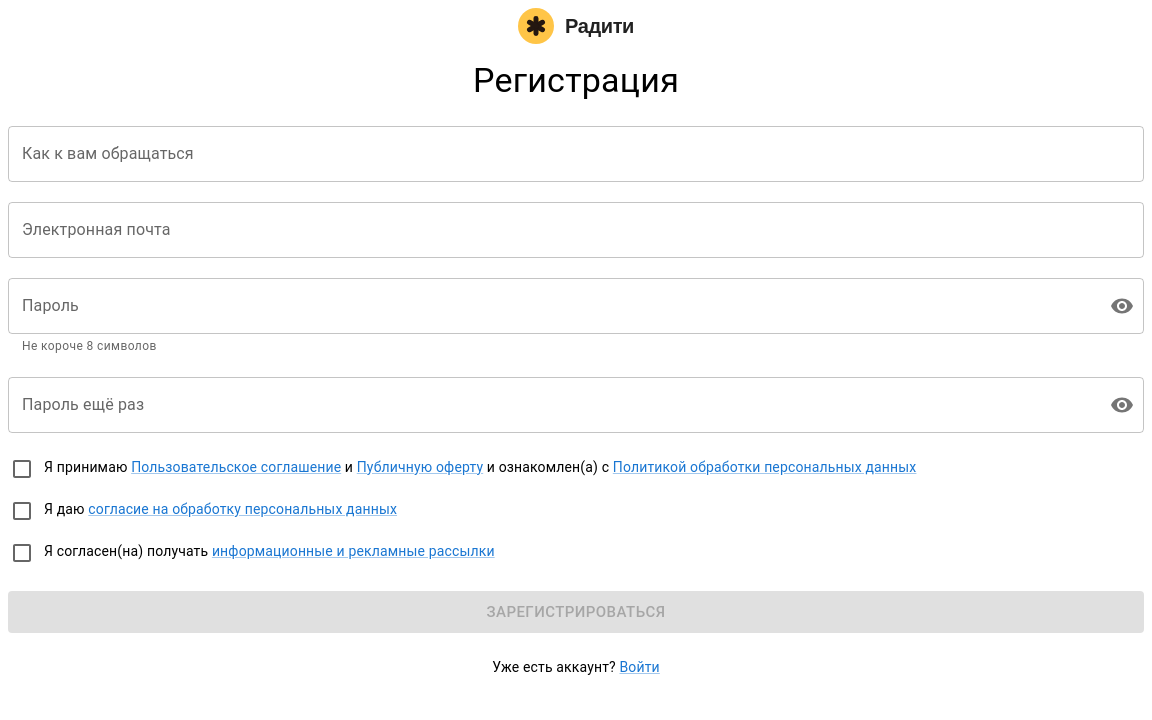
Scenario: RegisterForm › cannot submit with the personal data consent only
This screenshot has width=1152, height=720.
Step 1. Type "Анна" into the field labelled "Как к вам обращаться" → x=576, y=154, box x1=8 y1=126 x2=1144 y2=182
Step 2. Type " anna@example.ru " into the field labelled "Электронная почта" → x=576, y=230, box x1=8 y1=202 x2=1144 y2=258
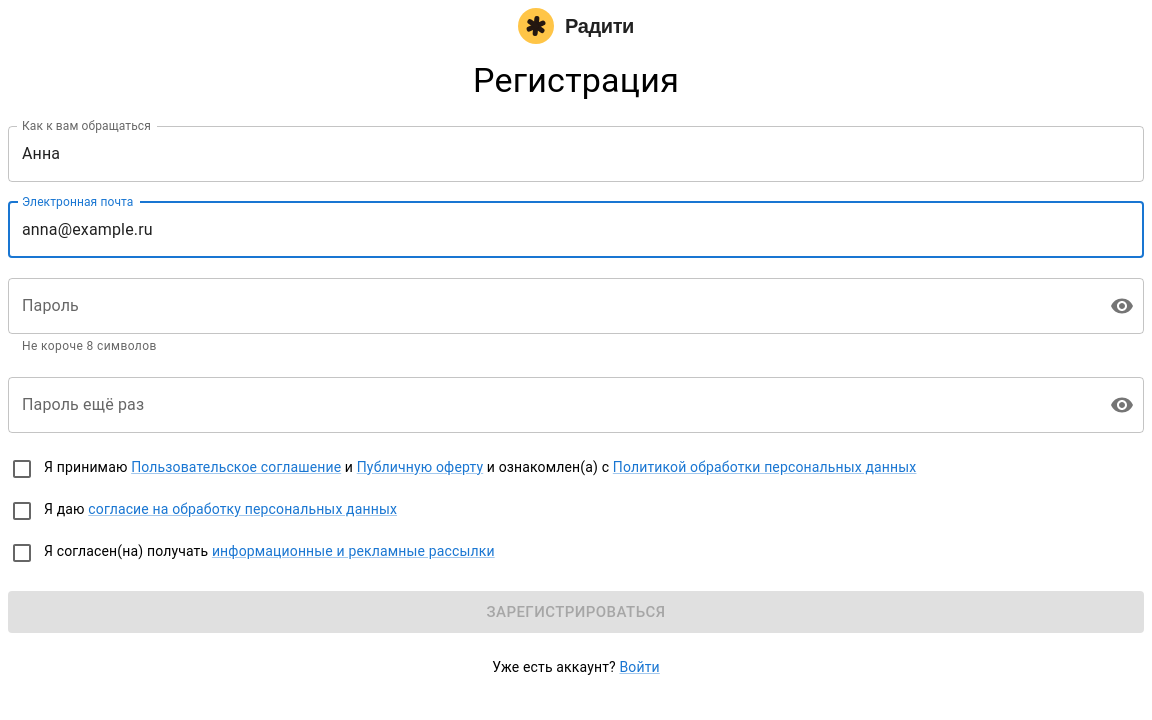
Step 3. Type "secret-pass" into the password field labelled "Пароль" → x=551, y=306, box x1=8 y1=278 x2=1094 y2=334
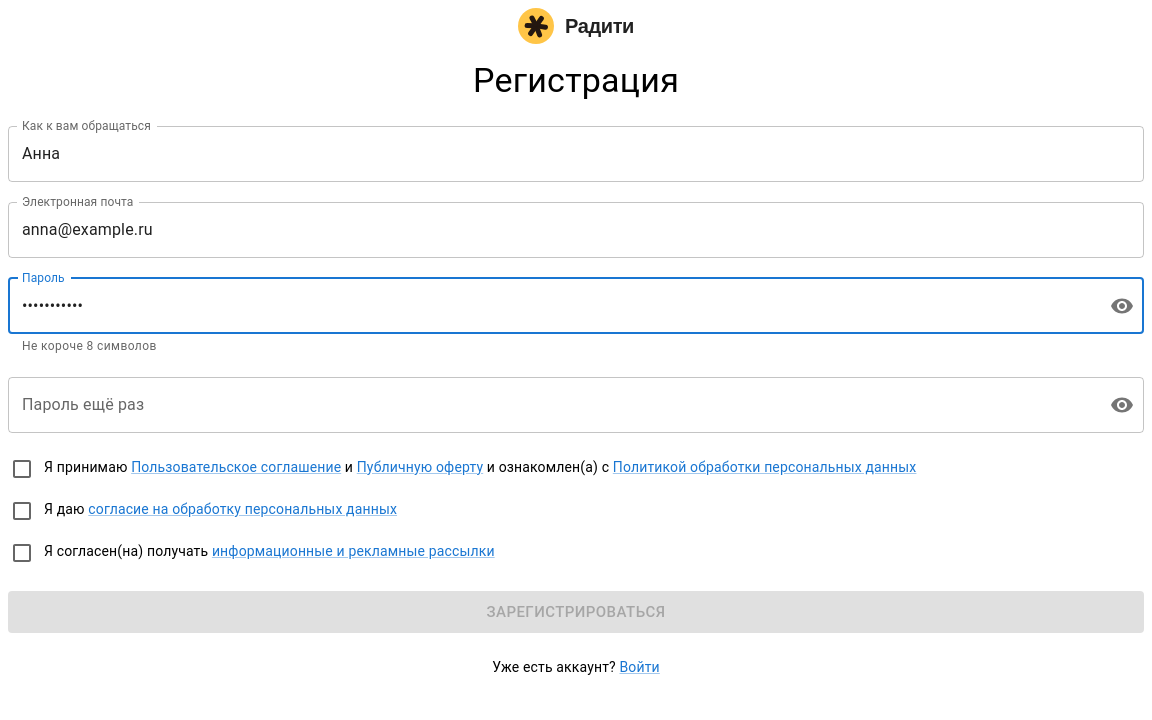
Step 4. Type "secret-pass" into the password field labelled "Пароль ещё раз" → x=551, y=405, box x1=8 y1=377 x2=1094 y2=433
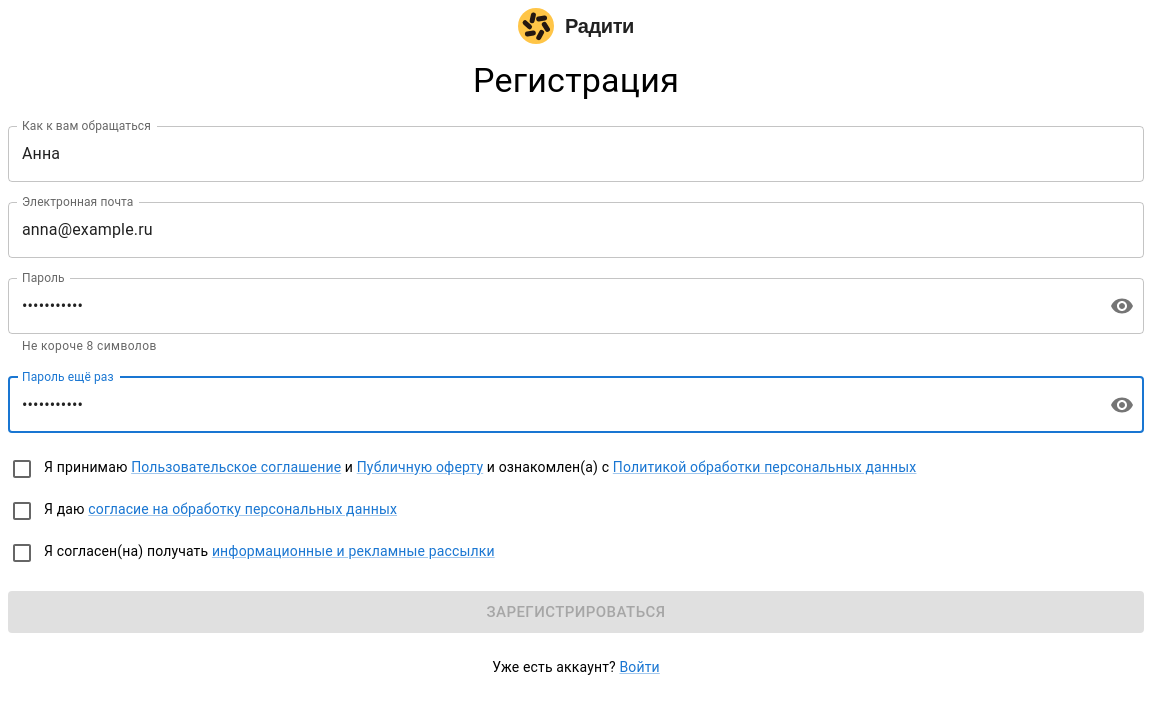
Step 5. Click the checkbox labelled "Я даю согласие на обработку персональных данных" → x=204, y=511, box x1=10 y1=499 x2=397 y2=523
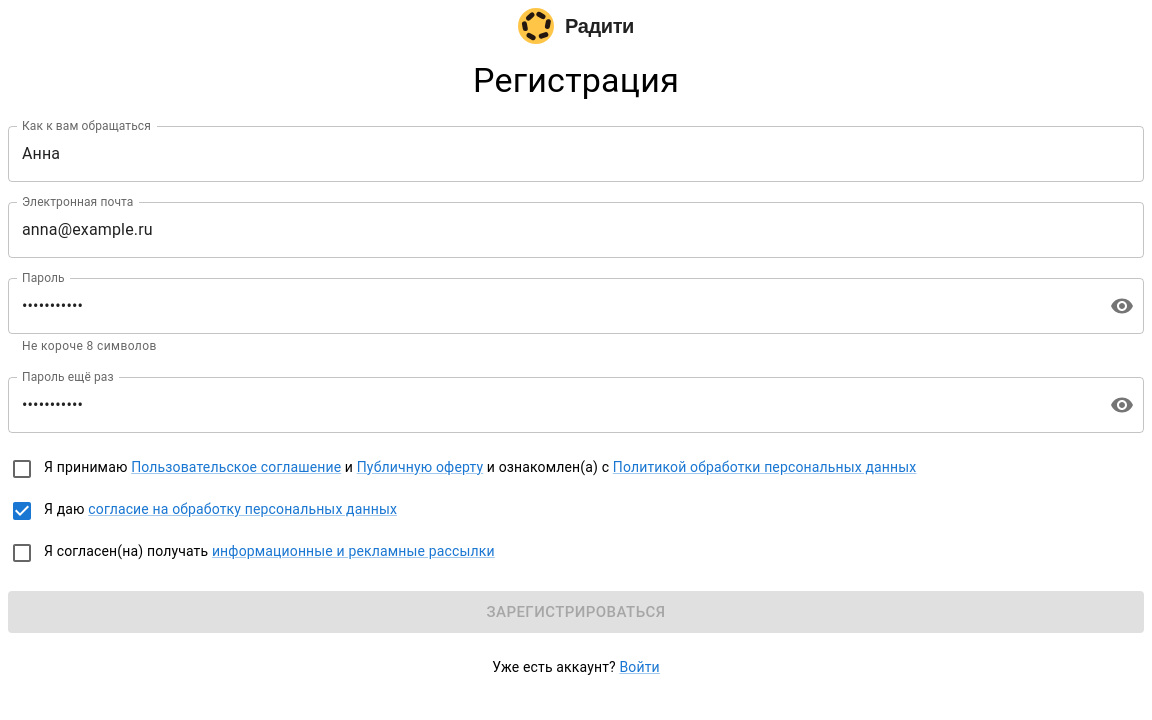
Step 6. Click the checkbox labelled "Я согласен(на) получать информационные и рекламные рассылки" → x=252, y=553, box x1=10 y1=541 x2=495 y2=565
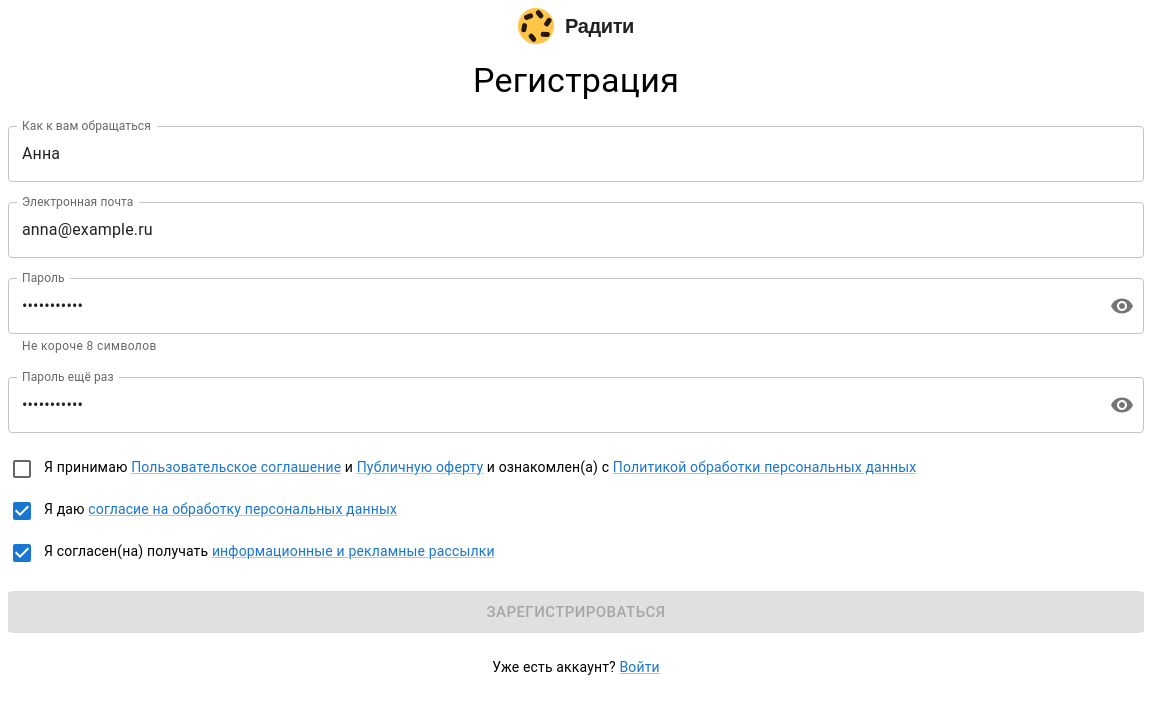
Expected: the button "Зарегистрироваться" is disabled, x1=8 y1=591 x2=1144 y2=633
Step 7. Submit the form
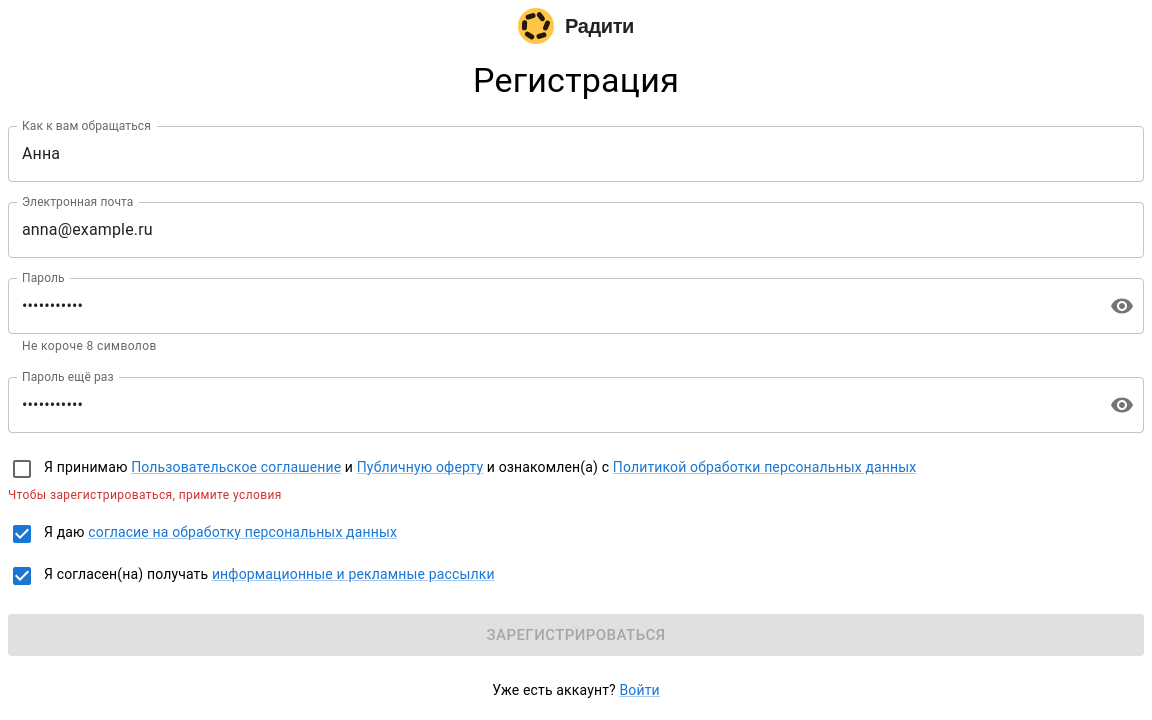
Expected: the text "Чтобы зарегистрироваться, примите условия" is shown, x1=8 y1=488 x2=282 y2=502
